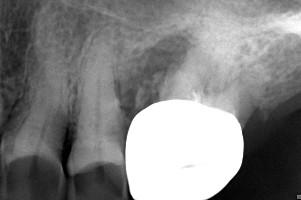Dental Caries: (114, 29, 196, 121)
